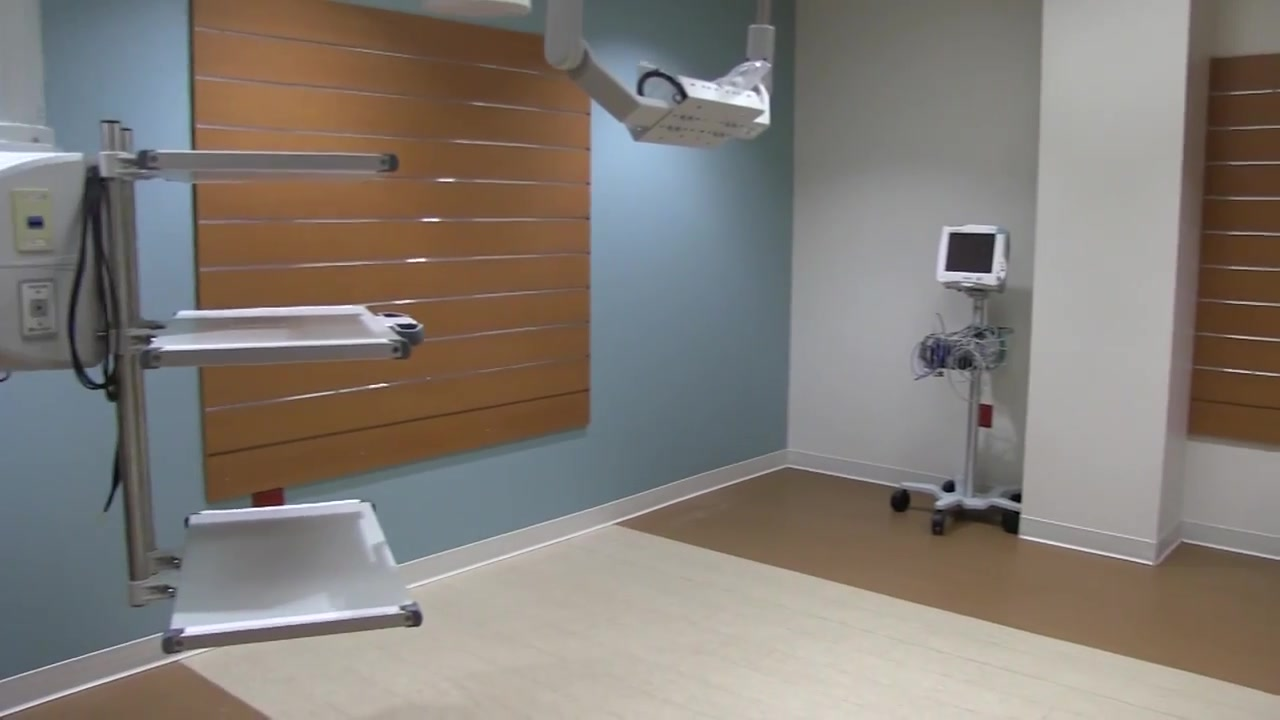bedside_monitor: (938, 224, 1012, 292)
